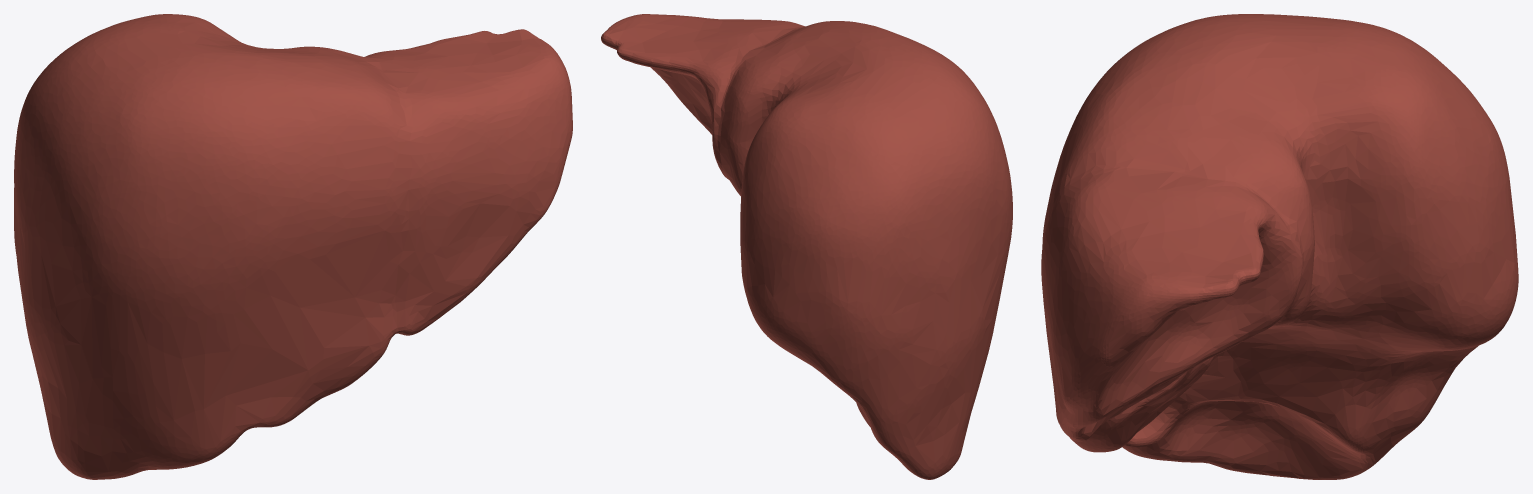
Rendered from liver.glb.
The picture shows the model from 3 angles, left to right: view 1: azimuth 30°, elevation 25°; view 2: azimuth 150°, elevation 25°; view 3: azimuth 270°, elevation 25°; orthographic projection. The views are drawn at different scales.
Parts seen in each view (by area): view 1: FMA7197.stl; view 2: FMA7197.stl; view 3: FMA7197.stl.
Boxes of the visible parts, <box> form: FMA7197.stl: <box>14,14,572,479</box>; FMA7197.stl: <box>601,14,1012,479</box>; FMA7197.stl: <box>1041,14,1518,479</box>.
Bounding box in the file's own units: 0.199 × 0.174 × 0.15.
